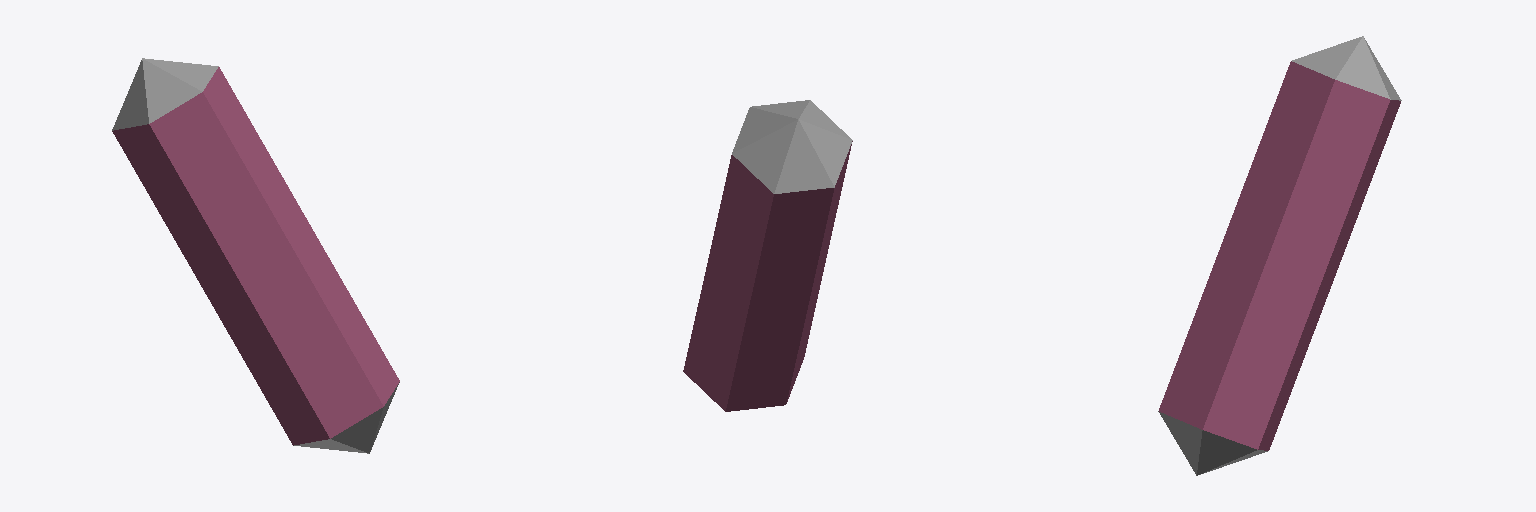
Rendered from hex_crystal_30_45_med.obj.
3 renders of one model, left to right at view 1: azimuth 30°, elevation 25°; view 2: azimuth 150°, elevation 25°; view 3: azimuth 270°, elevation 25°, orthographic.
Visible parts, largest first — view 1: Cylinder; view 2: Cylinder; view 3: Cylinder.
Part boxes in pixels (left/top/right/bottom): Cylinder: left=112, top=58, right=399, bottom=453; Cylinder: left=683, top=100, right=852, bottom=411; Cylinder: left=1158, top=36, right=1401, bottom=475.
Bounding box in the file's own units: 0.9706 × 1.63 × 0.9706.